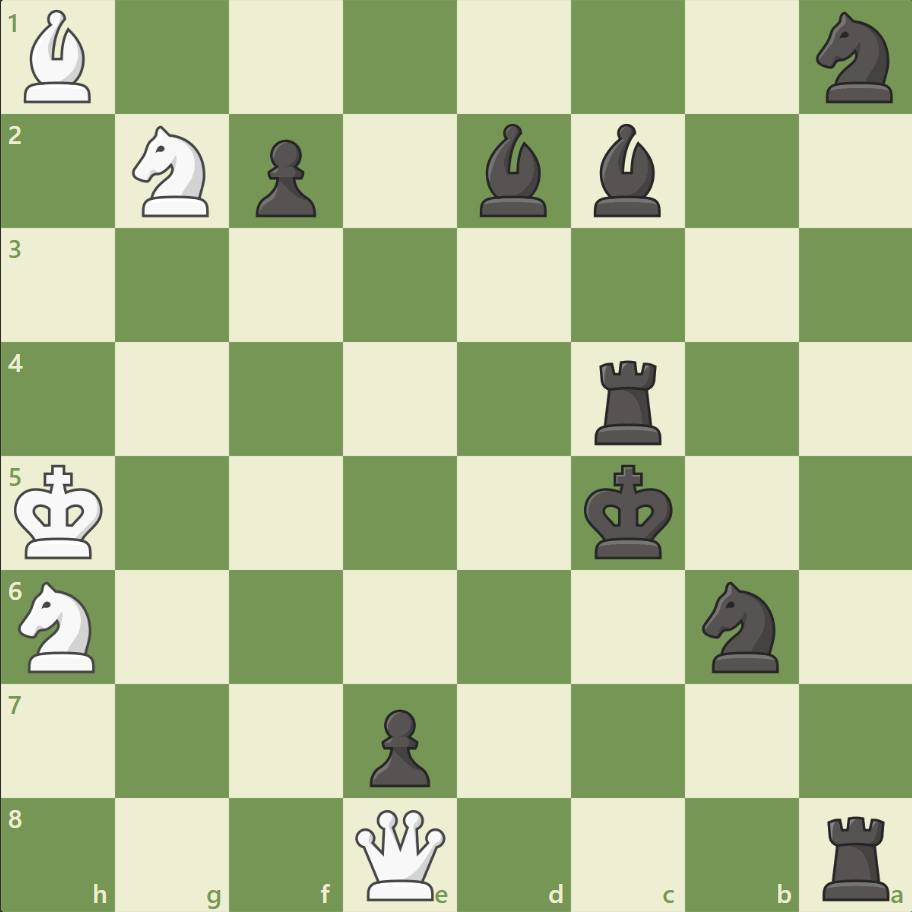B: (17, 6, 101, 109)
K: (11, 458, 111, 566)
N: (124, 121, 222, 223), (11, 575, 108, 677)
Q: (351, 804, 450, 903)
b: (585, 120, 669, 222), (471, 120, 555, 222)
k: (579, 458, 679, 566)
n: (806, 7, 903, 110), (692, 575, 789, 677)
p: (247, 132, 322, 223), (361, 700, 435, 791)
r: (814, 806, 897, 904), (587, 352, 670, 449)
